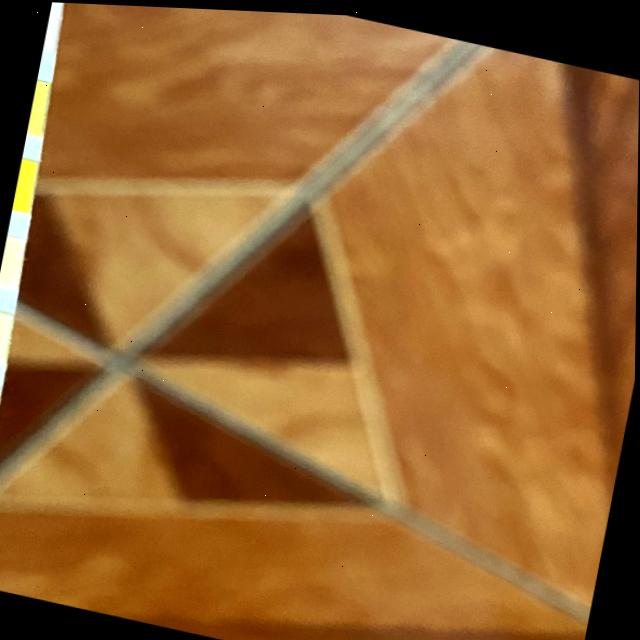Blood: (12, 159, 39, 213)
Protein: (0, 311, 14, 365)
SpGravity: (27, 78, 52, 135)
Urobilinogen: (0, 384, 4, 435)
pH: (0, 236, 26, 287)
